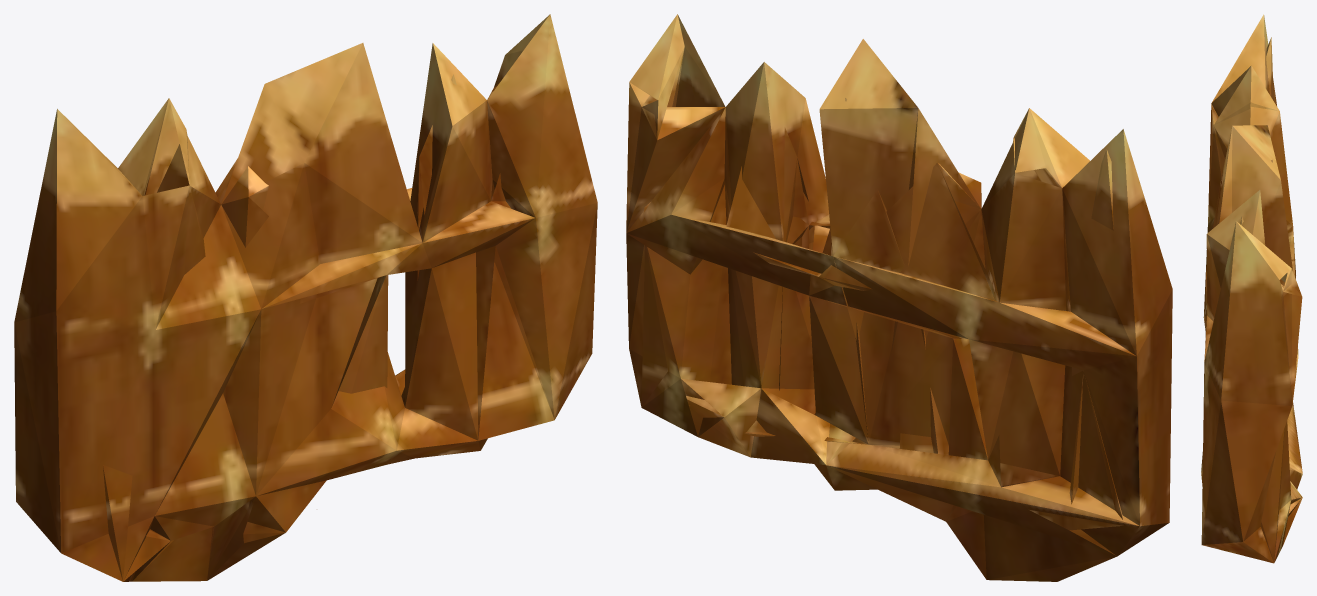
The model's file is palisade-wall.glb.
The picture shows the model from 3 angles, left to right: view 1: azimuth 30°, elevation 25°; view 2: azimuth 150°, elevation 25°; view 3: azimuth 270°, elevation 25°; orthographic projection. The views are drawn at different scales.
Visible parts, largest first — view 1: palisade-wall; view 2: palisade-wall; view 3: palisade-wall.
Boxes of the visible parts, x1=… form: palisade-wall: x1=14, y1=14, x2=597, y2=581; palisade-wall: x1=626, y1=14, x2=1172, y2=581; palisade-wall: x1=1201, y1=14, x2=1302, y2=563.
Bounding box in the file's own units: 3.72 × 3.31 × 0.6959.
Materials: 1 (1 with a texture image).
